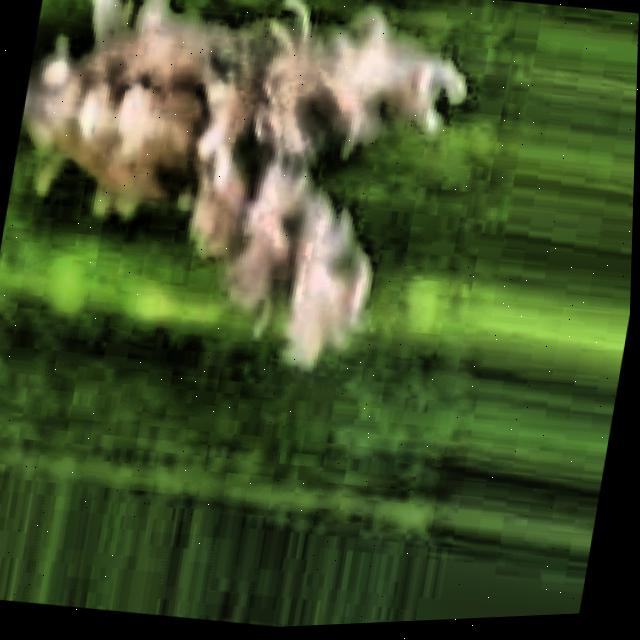Pyrilla-perpusilla: (0, 0, 503, 479)
